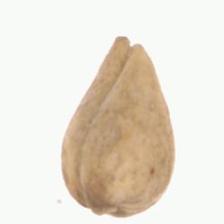L1: (78, 198, 128, 219), (113, 35, 143, 68)
L2: (60, 35, 176, 218)
